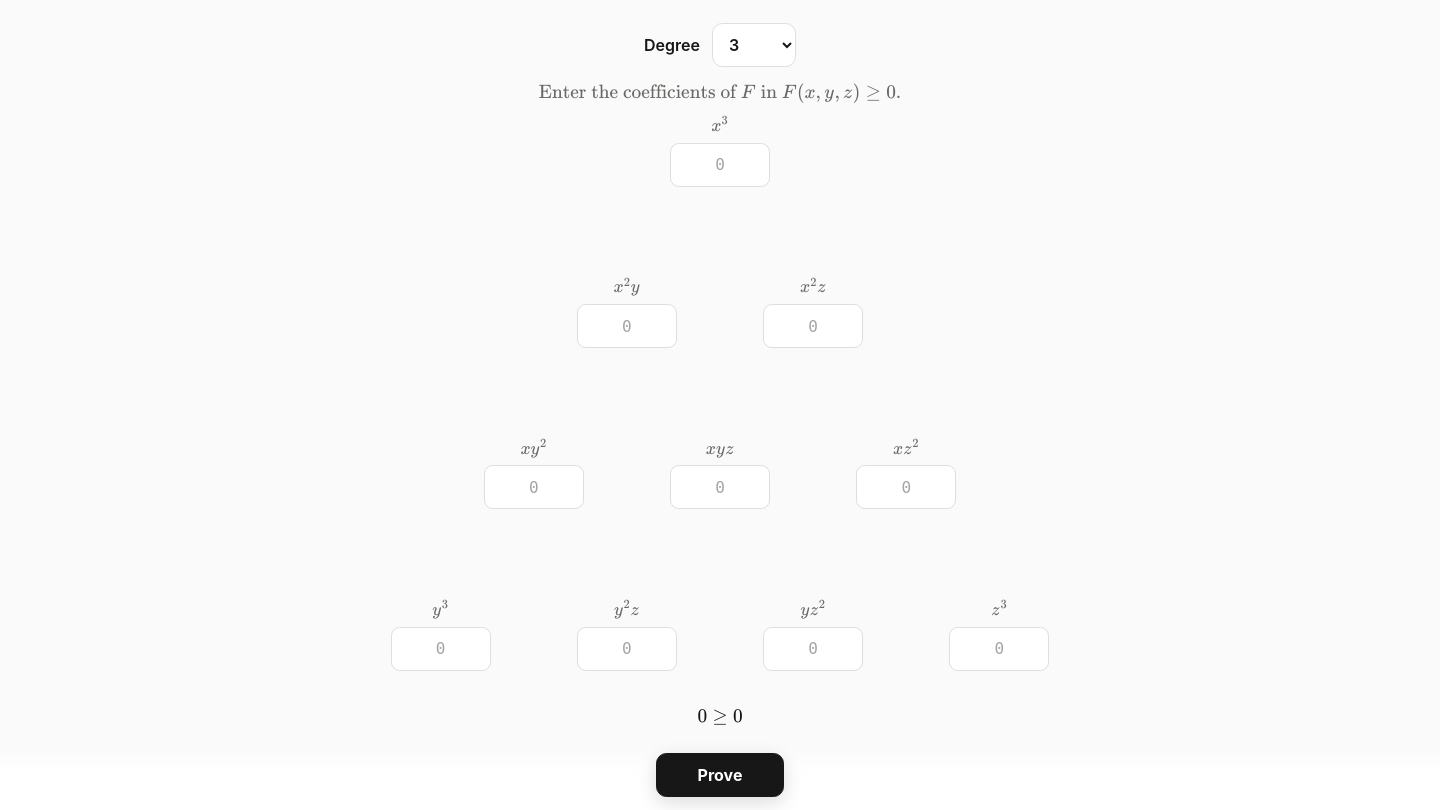
Scenario: coefficient proof workflow › preserves coefficients and retries a failed request
Type "1" into the field named "Coefficient of x to the power 3" at (720, 165), box [670,143,770,187]
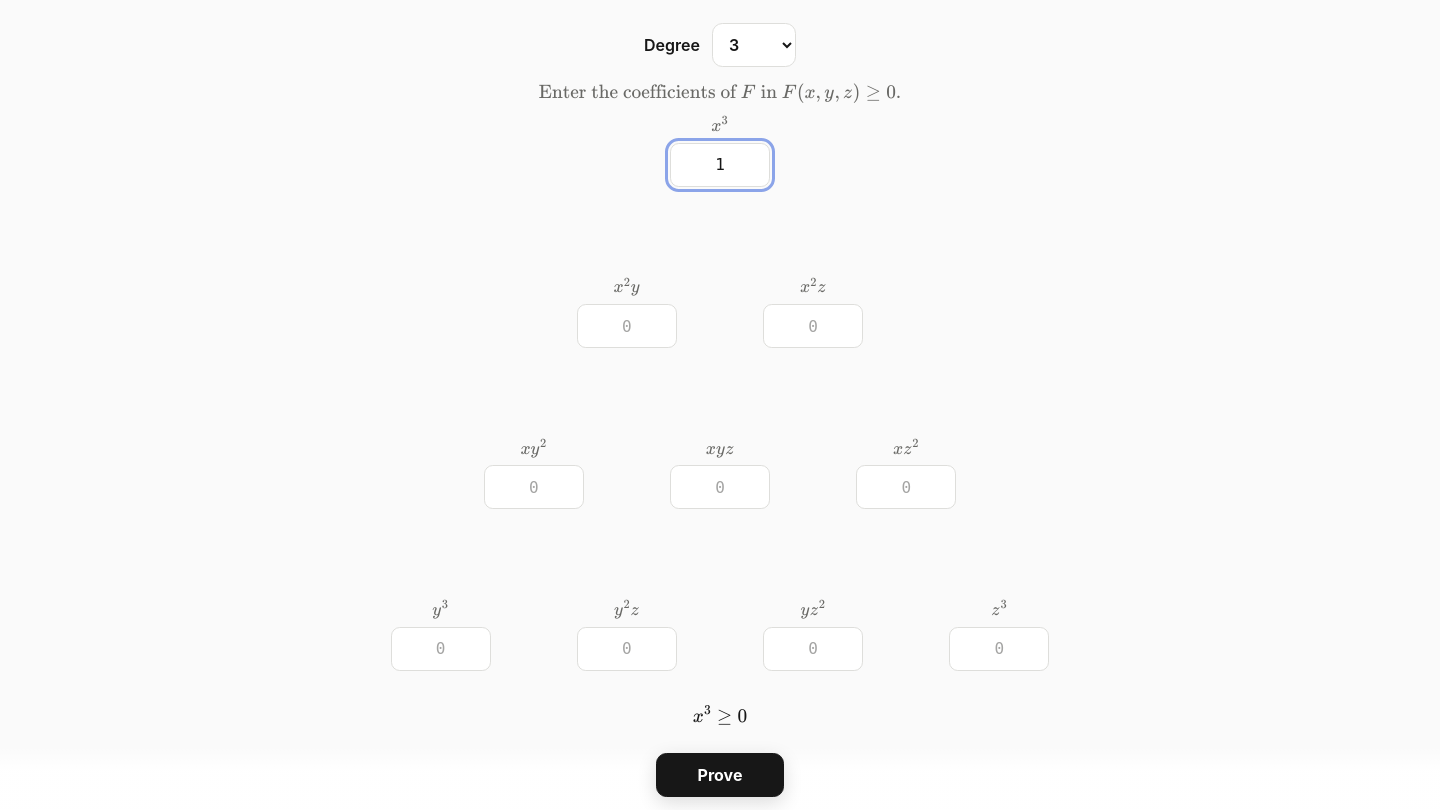
Click the button "Prove" at (720, 775), box [656,753,784,797]
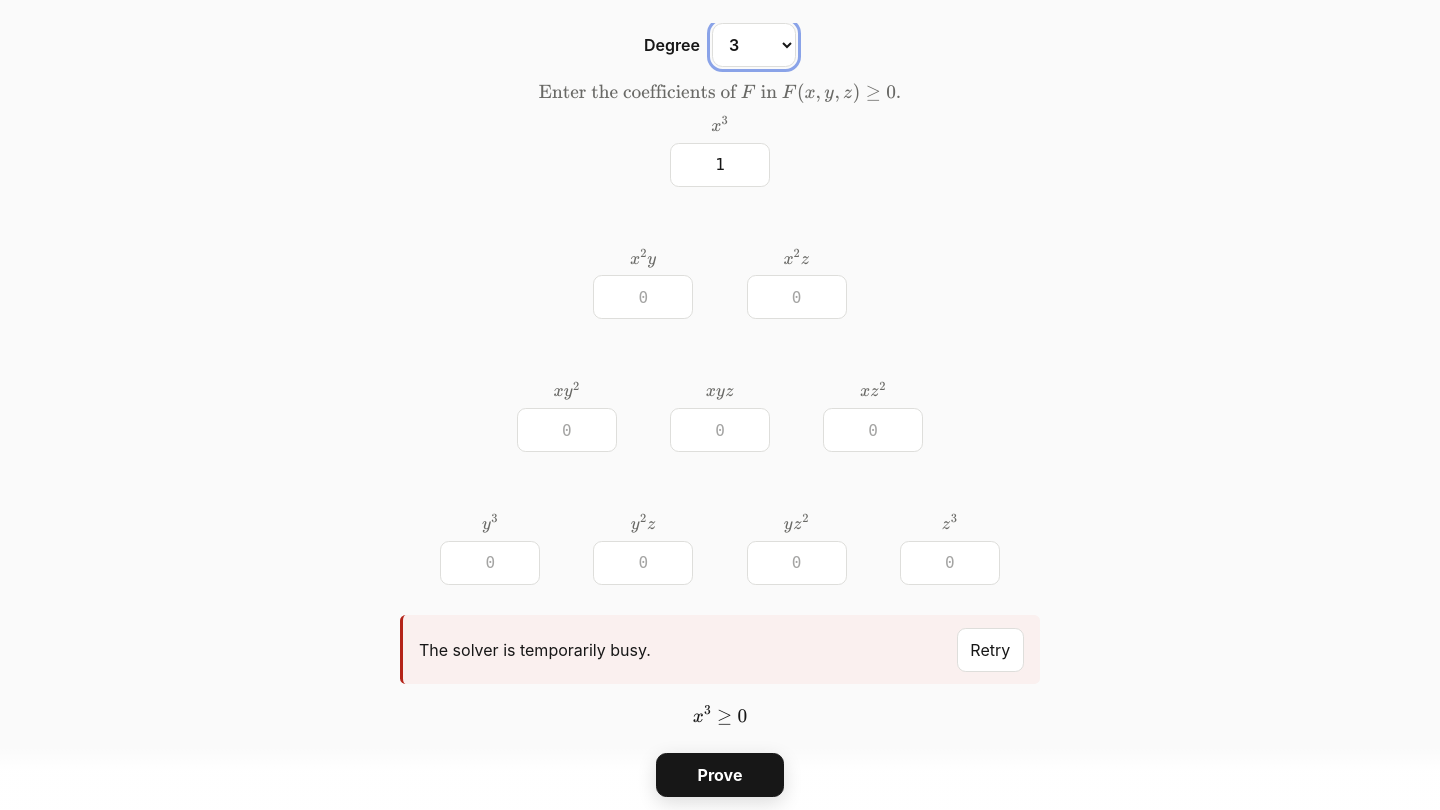
Expected: the field named "Coefficient of x to the power 3" holds "1", [670,143,770,187]
Expected: the message shows "The solver is temporarily busy.", [419,640,651,660]
Click the button "Retry" at (990, 650), box [956,628,1024,672]
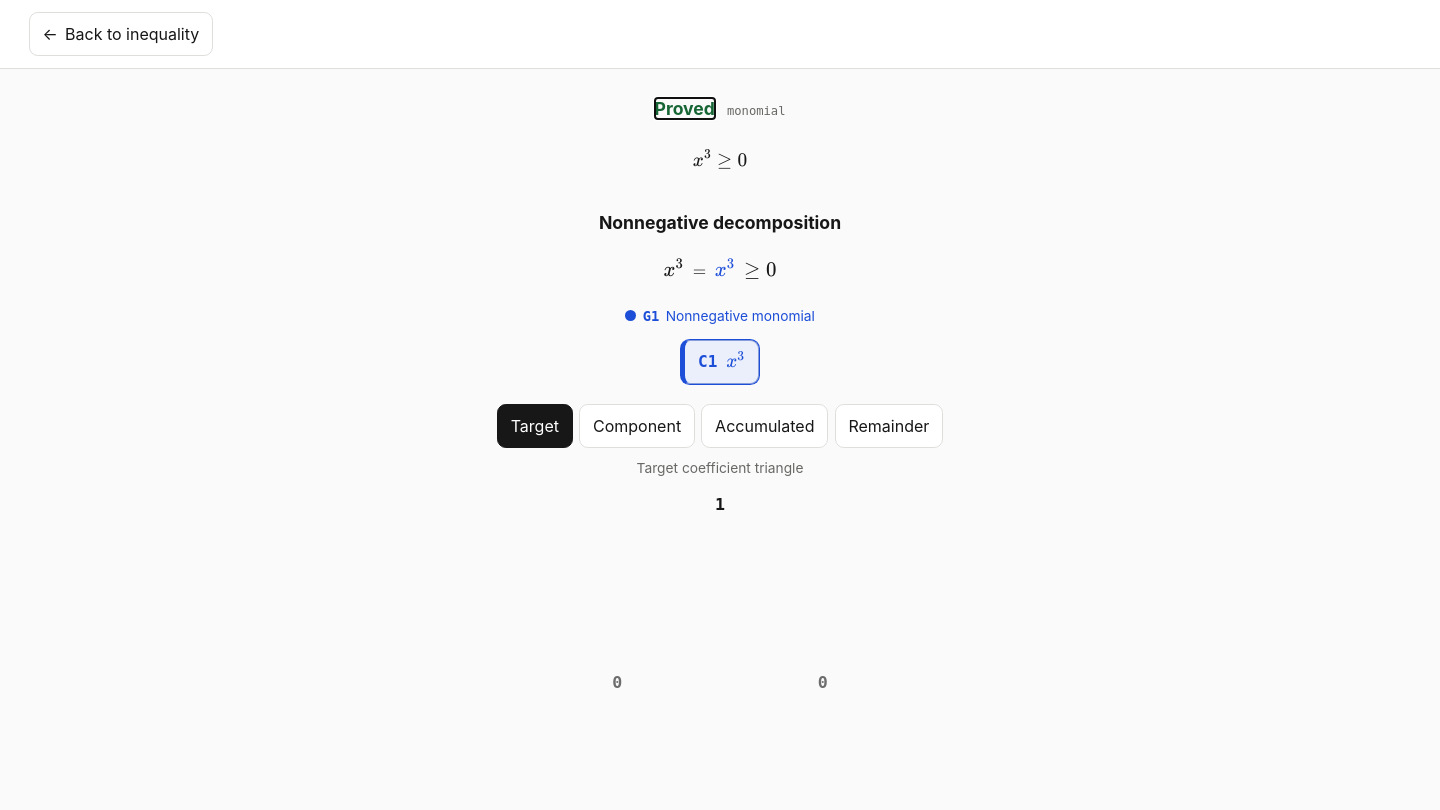
Expected: the heading "Proved" is shown, [654,98,715,119]
Click the button "← Back to inequality" at (121, 34), box [29,12,213,56]
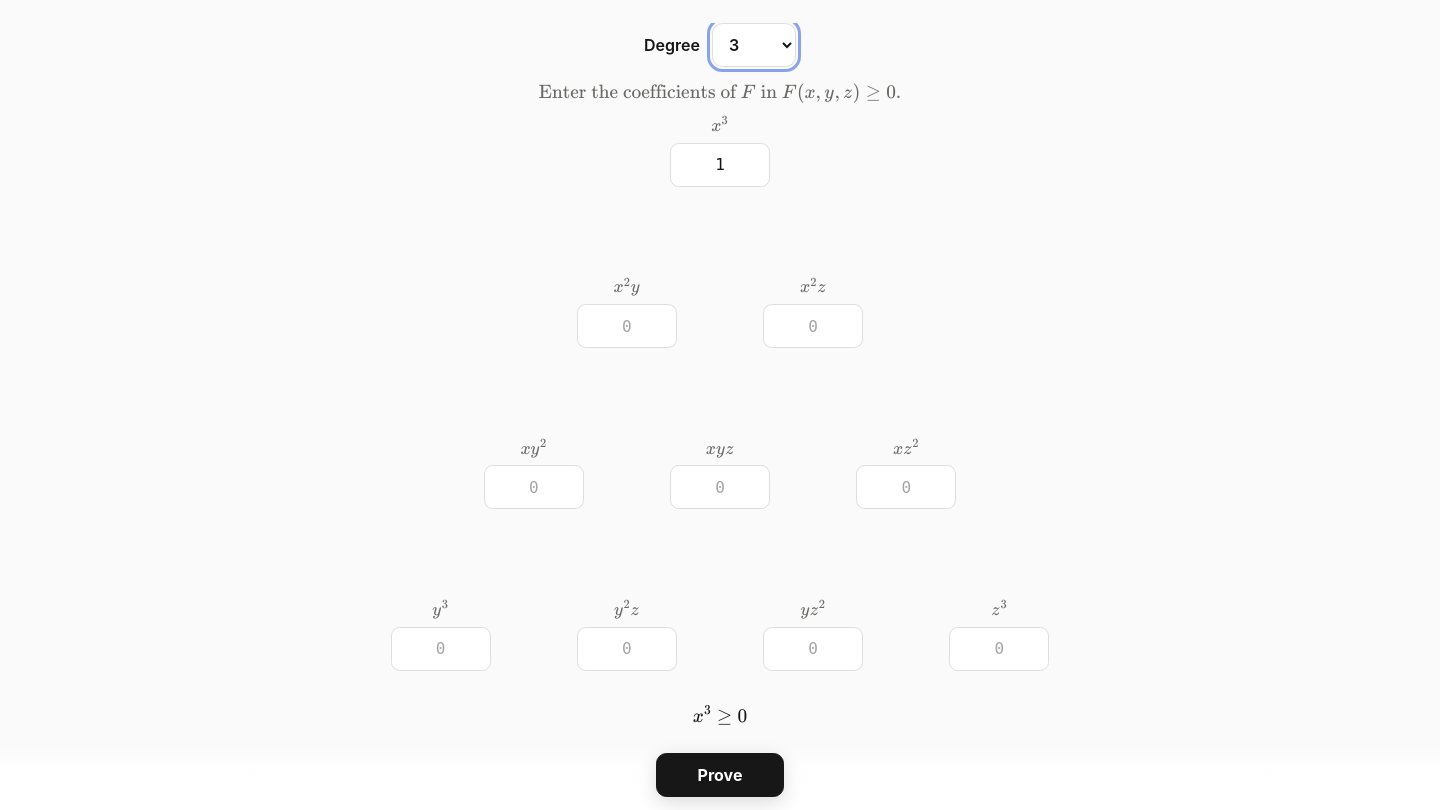
Expected: the field named "Coefficient of x to the power 3" holds "1", [670,143,770,187]
